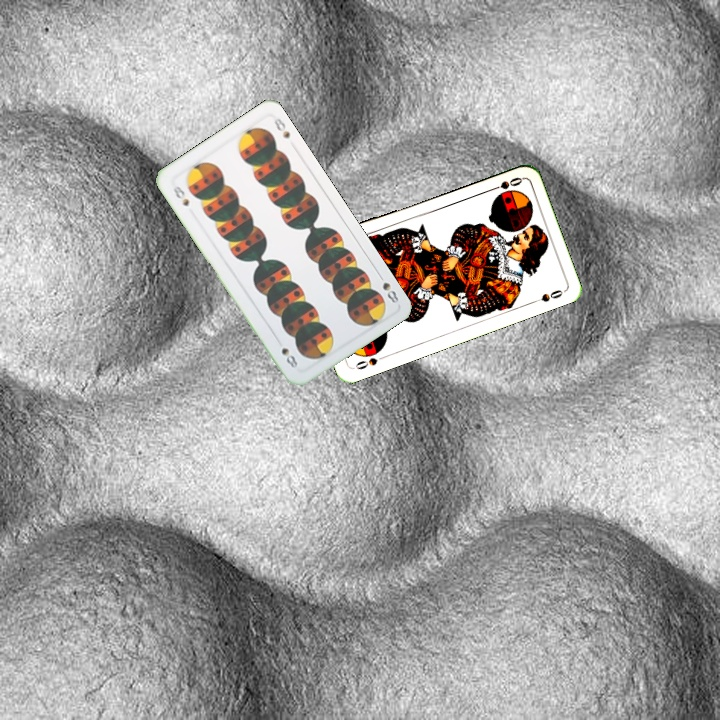S8: (374, 269, 401, 306), (169, 181, 192, 209)
SO: (485, 173, 525, 194), (351, 351, 389, 372)
